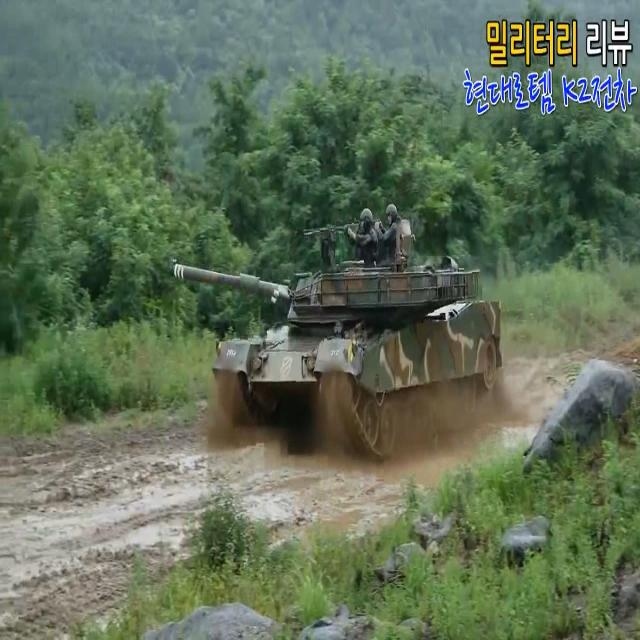korea tank: (170, 201, 502, 456)
